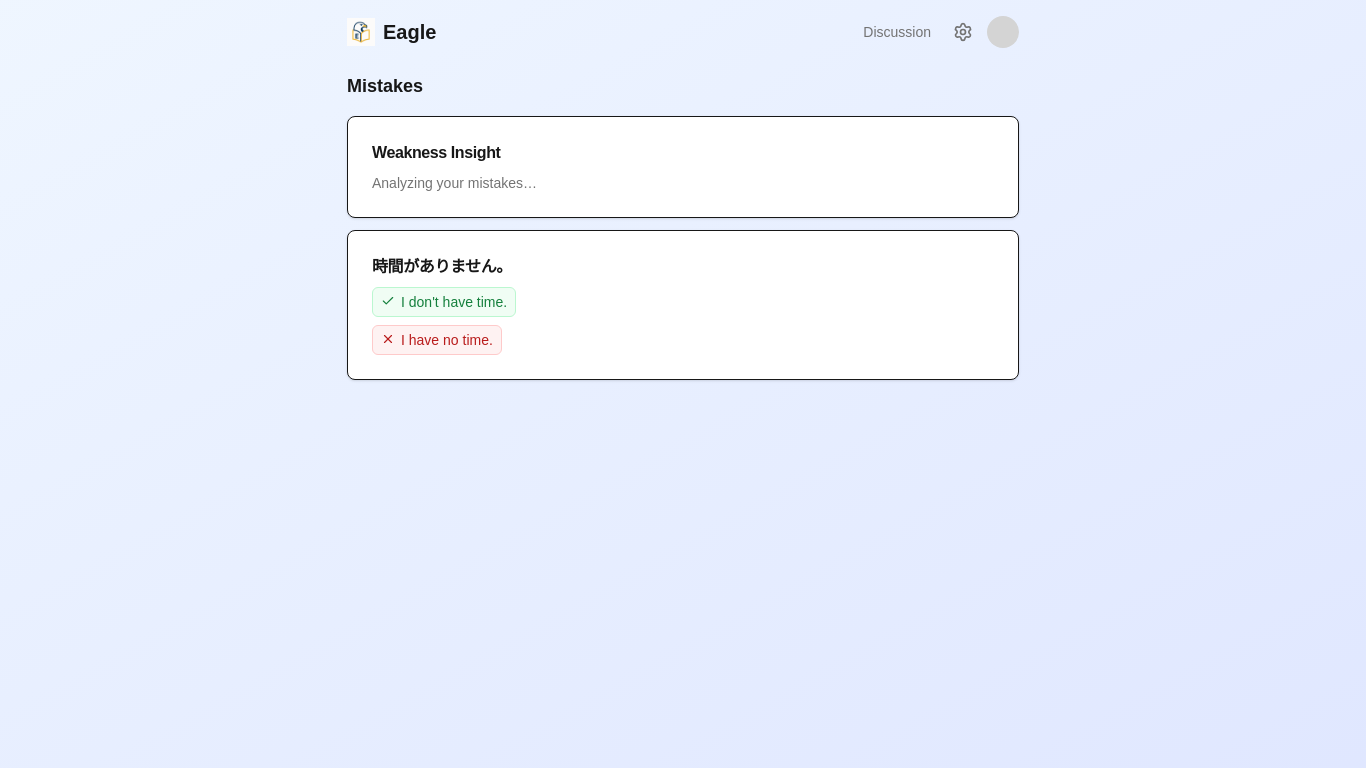
Test: header and settings › does not let a stale insight request overwrite a newer language change
Expected: the heading "時間がありません。" is shown, x1=372 y1=258 x2=512 y2=275
Expected: the text "Analyzing your mistakes…" is shown, x1=372 y1=175 x2=537 y2=191
Click the button named "Settings": (963, 32) x1=947 y1=16 x2=979 y2=48
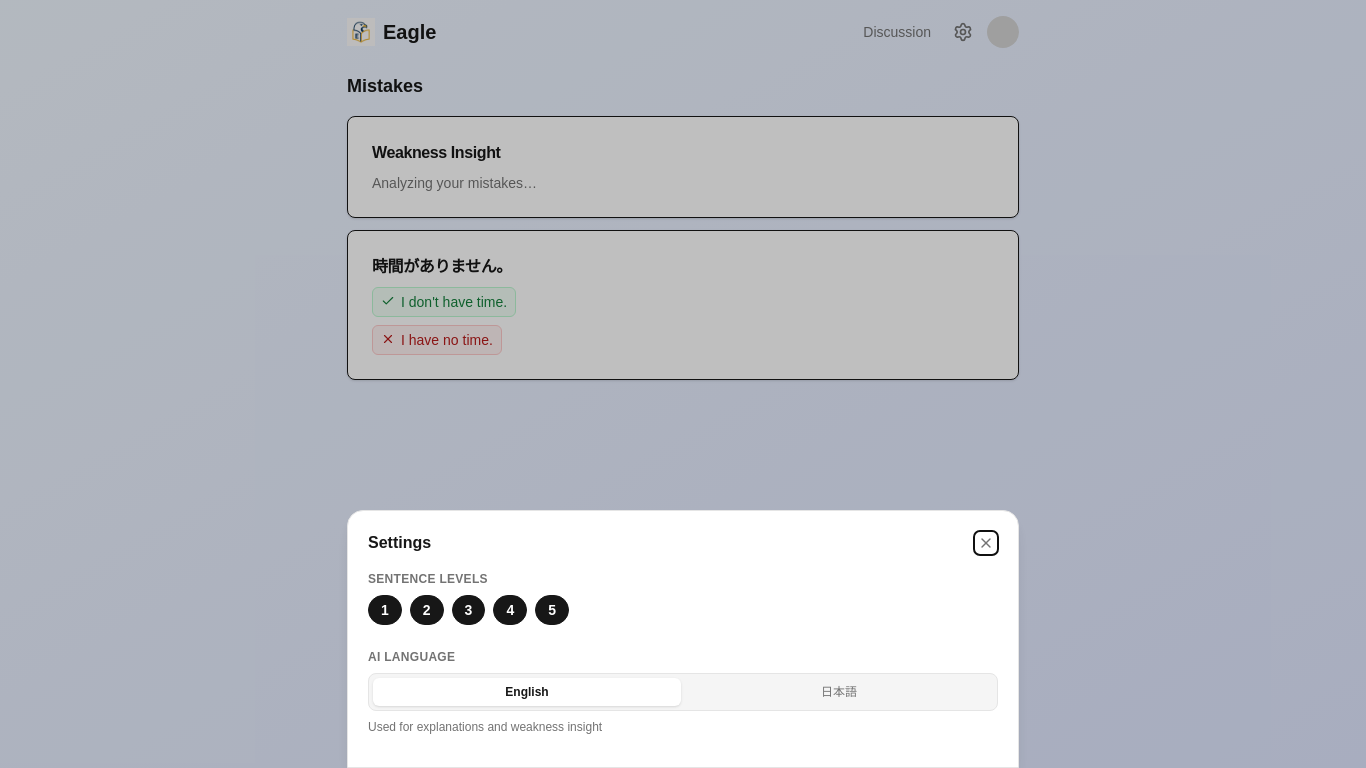
Click the tab "日本語": (839, 692) x1=685 y1=678 x2=993 y2=706
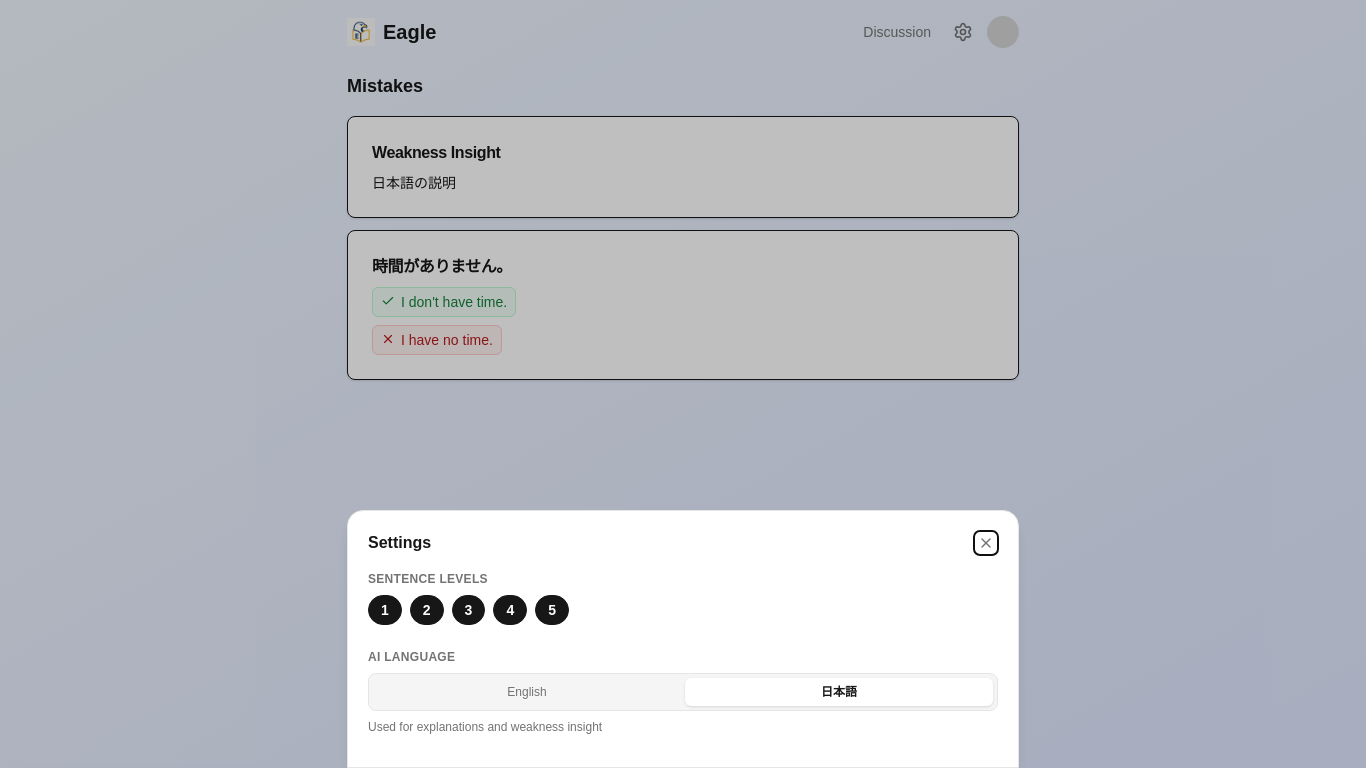
Expected: the text "日本語の説明" is shown, x1=372 y1=175 x2=456 y2=191
